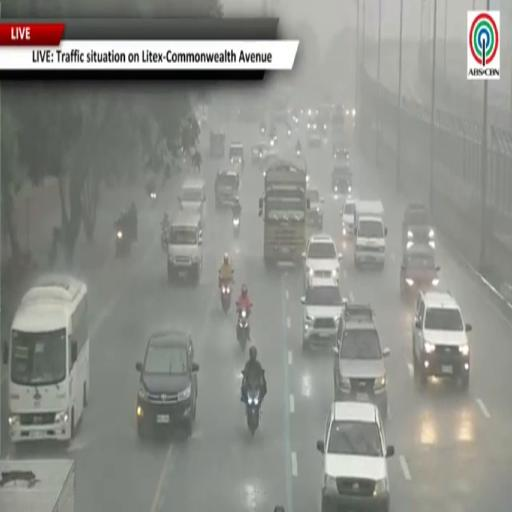bus: (5, 275, 89, 442)
car: (317, 402, 394, 511), (136, 330, 199, 436), (334, 304, 390, 419), (413, 292, 471, 390), (301, 278, 344, 349), (167, 211, 202, 284), (303, 234, 342, 287), (400, 246, 440, 297), (402, 203, 435, 251), (179, 176, 206, 228), (215, 170, 239, 207), (331, 162, 352, 197), (307, 185, 323, 230), (341, 199, 355, 237), (229, 142, 244, 169), (307, 124, 323, 148), (252, 141, 268, 165), (210, 132, 225, 157), (333, 147, 349, 164), (307, 110, 318, 131)
motorcycle: (242, 371, 261, 435), (246, 387, 260, 435), (237, 309, 250, 349), (116, 223, 131, 257), (221, 282, 231, 313), (161, 223, 169, 250), (233, 216, 240, 238), (150, 191, 156, 200), (287, 128, 291, 137), (261, 126, 265, 135), (297, 150, 301, 156)
truck: (259, 159, 309, 266), (0, 460, 75, 511), (354, 201, 387, 267)
